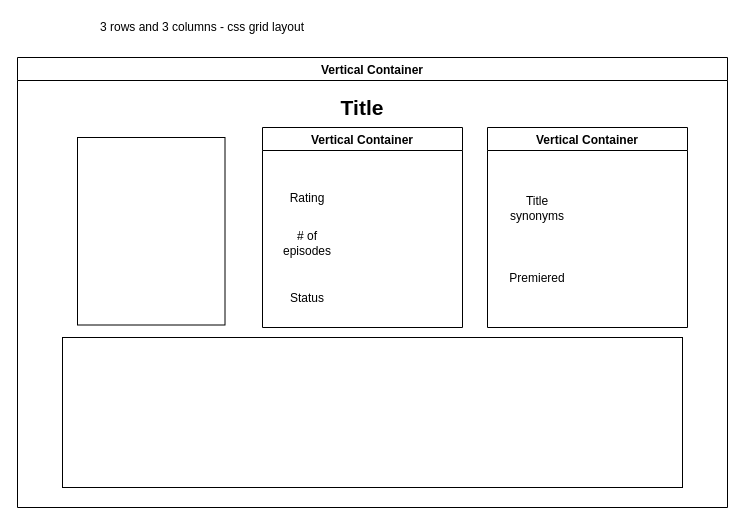
This 745x525 diagram has some shape labels left out. Each missing label, with the centre of its shape:
Image: the point at 150,230
Synopsis: the point at 372,412
